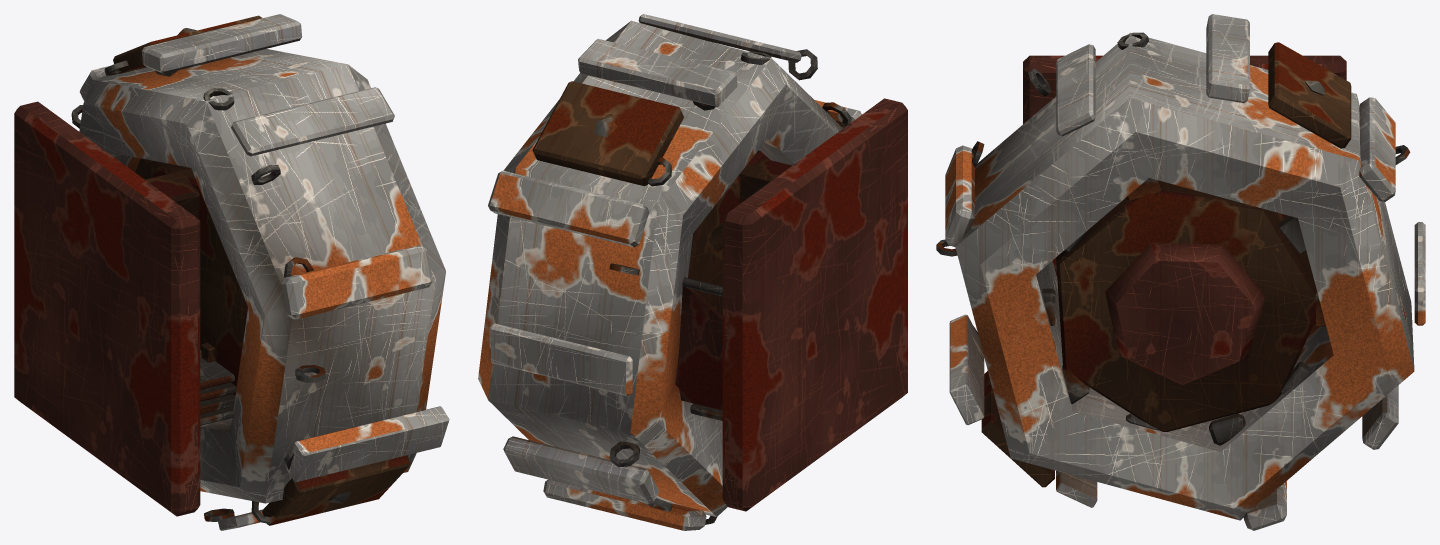
Rendered from R4M_WheelM_Side_Offroad_LOD1.glb.
The picture shows the model from 3 angles, left to right: view 1: azimuth 30°, elevation 25°; view 2: azimuth 150°, elevation 25°; view 3: azimuth 270°, elevation 25°; orthographic projection.
Parts seen in each view (by area): view 1: R4M_WheelM_Side_Offroad_LOD1; view 2: R4M_WheelM_Side_Offroad_LOD1; view 3: R4M_WheelM_Side_Offroad_LOD1.
Boxes of the visible parts, box(x1,y1,x2,y2) form: R4M_WheelM_Side_Offroad_LOD1: box(14, 14, 449, 530); R4M_WheelM_Side_Offroad_LOD1: box(478, 14, 907, 530); R4M_WheelM_Side_Offroad_LOD1: box(936, 14, 1425, 530).
Size of the model in its own units: 0.446 by 0.7603 by 0.7562.
Materials: 4 (4 with a texture image).
